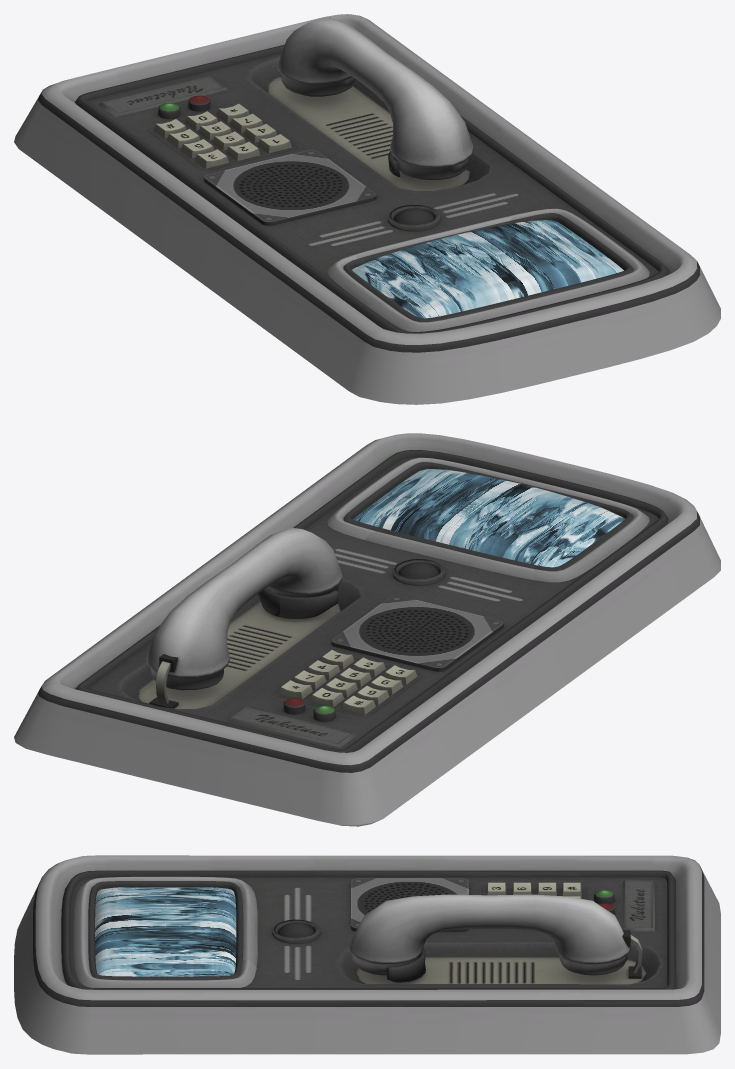
Rendered from nt_phone_wall_LOD0.obj.
3 renders of one model, top to bottom at view 1: azimuth 30°, elevation 25°; view 2: azimuth 150°, elevation 25°; view 3: azimuth 270°, elevation 25°, orthographic. The views are drawn at different scales.
Parts seen in each view (by area): view 1: mtl_nt_phone_wall, mtl_nt_2020_screen_animated_01; view 2: mtl_nt_phone_wall, mtl_nt_2020_screen_animated_01; view 3: mtl_nt_phone_wall, mtl_nt_2020_screen_animated_01.
Boxes of the visible parts, x1=… form: mtl_nt_phone_wall: x1=14, y1=14, x2=720, y2=404; mtl_nt_2020_screen_animated_01: x1=352, y1=220, x2=623, y2=318; mtl_nt_phone_wall: x1=14, y1=433, x2=720, y2=826; mtl_nt_2020_screen_animated_01: x1=352, y1=469, x2=624, y2=567; mtl_nt_phone_wall: x1=14, y1=855, x2=720, y2=1054; mtl_nt_2020_screen_animated_01: x1=95, y1=887, x2=236, y2=976.
Bounding box in the file's own units: 47.94 × 14.59 × 88.44.
